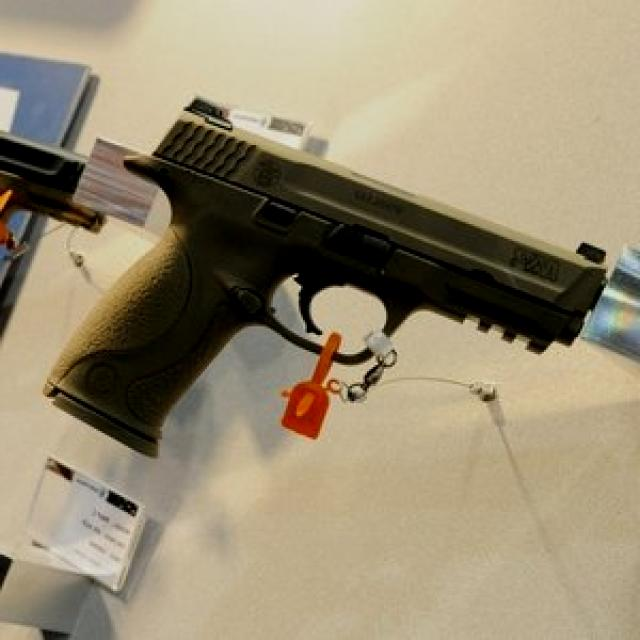pistol: (41, 92, 602, 439)
